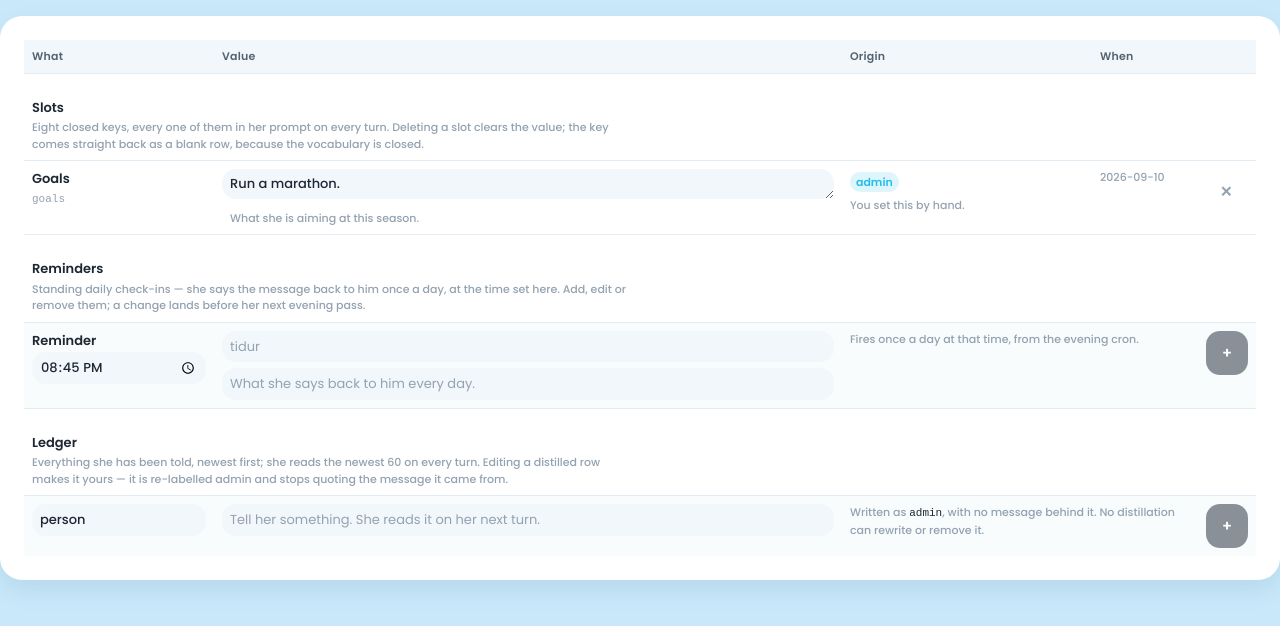
Test: MemoryTable — slot rows › refuses an emptied slot locally — revert, sentence, and nothing sent
Clear the text box named "Goals value" at point(528, 184), box x1=222 y1=169 x2=834 y2=199
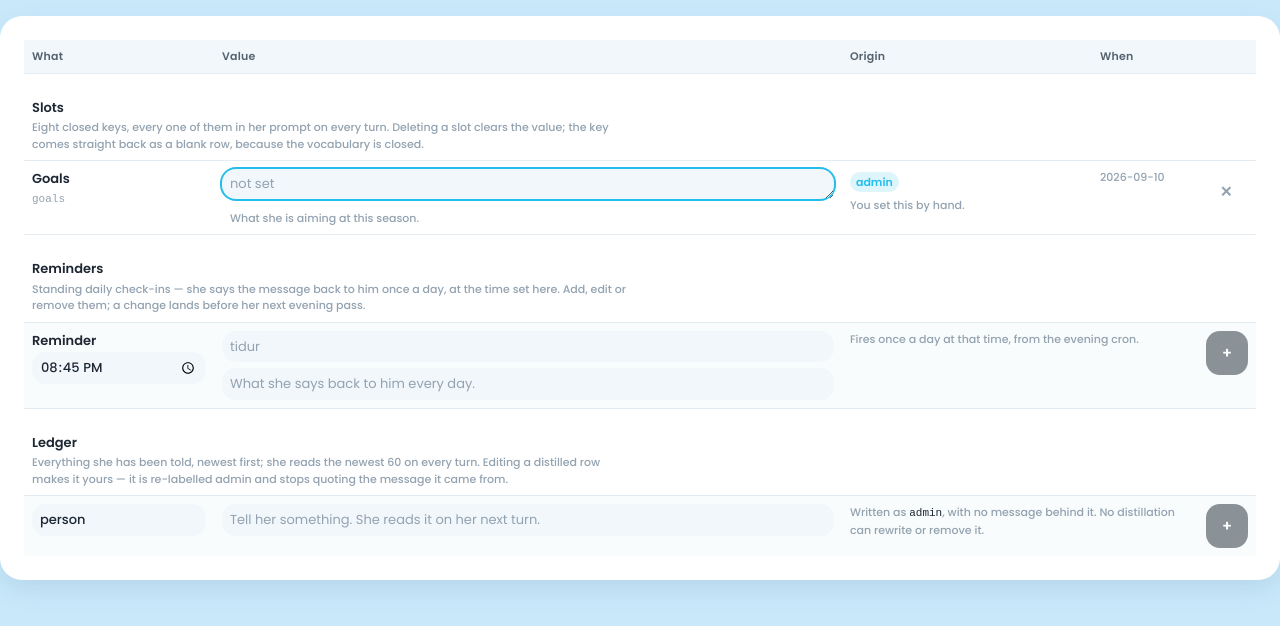
Leave the text box named "Goals value", box x1=222 y1=169 x2=834 y2=199
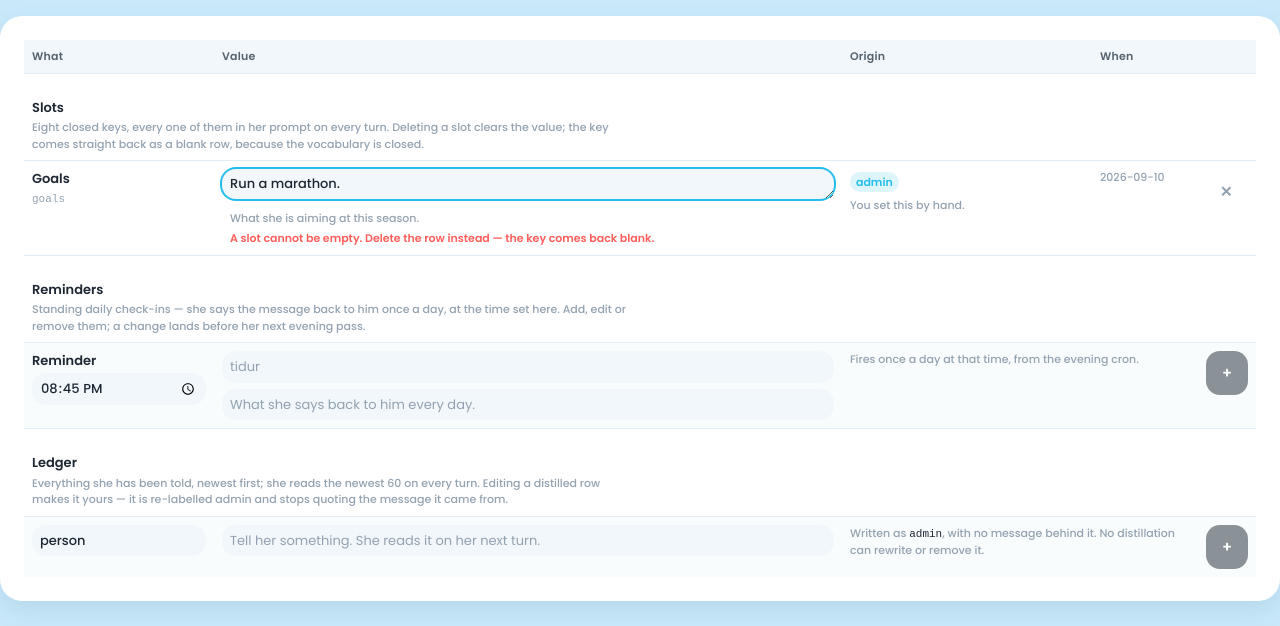
Result: the text "A slot cannot be empty. Delete the row instead — the key comes back blank." is shown at x1=230 y1=230 x2=654 y2=246
Result: the text box named "Goals value" holds "Run a marathon." at x1=222 y1=169 x2=834 y2=199
